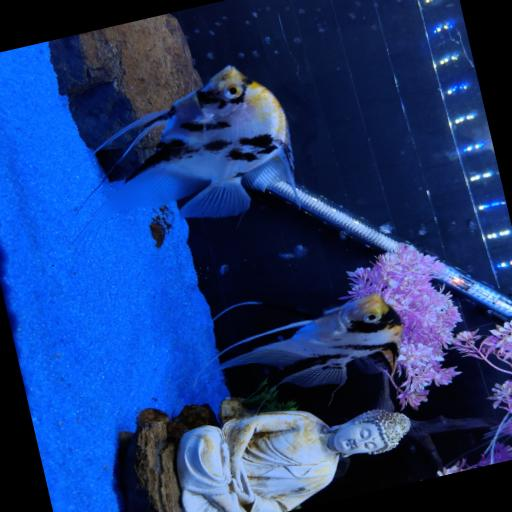Fish: (89, 66, 293, 225), (217, 294, 402, 387)
